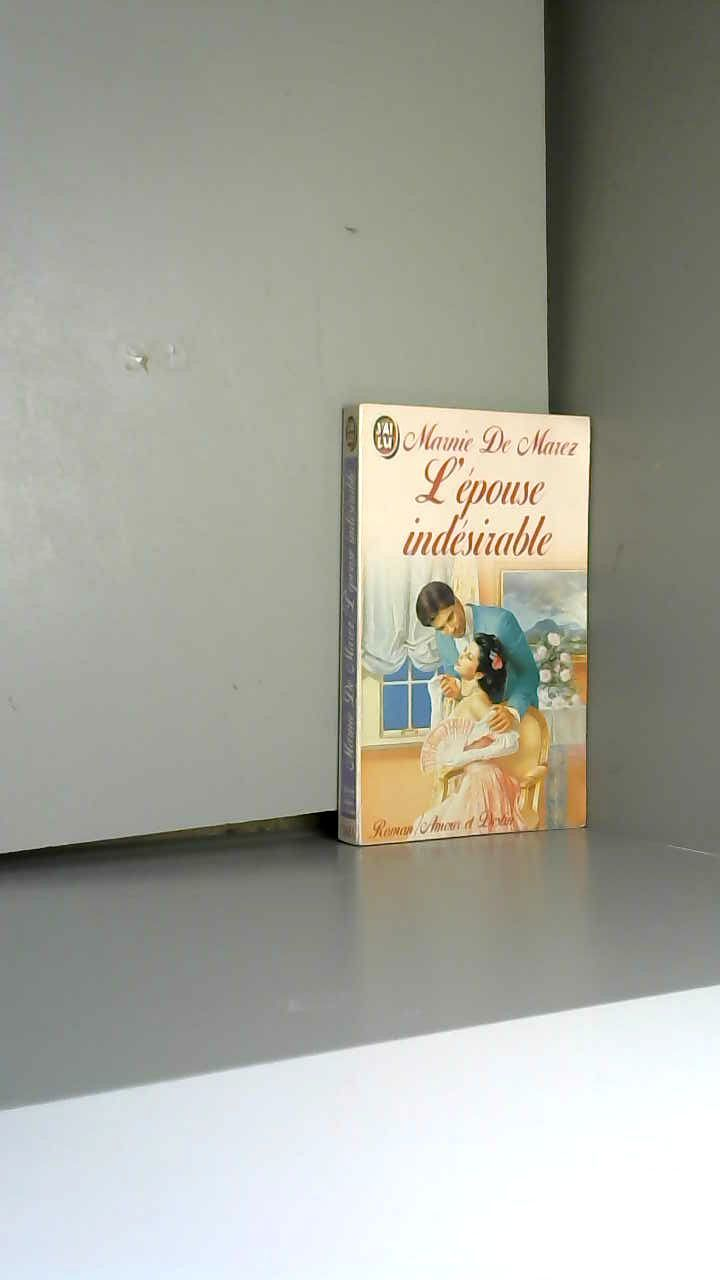book: (310, 380, 719, 899)
